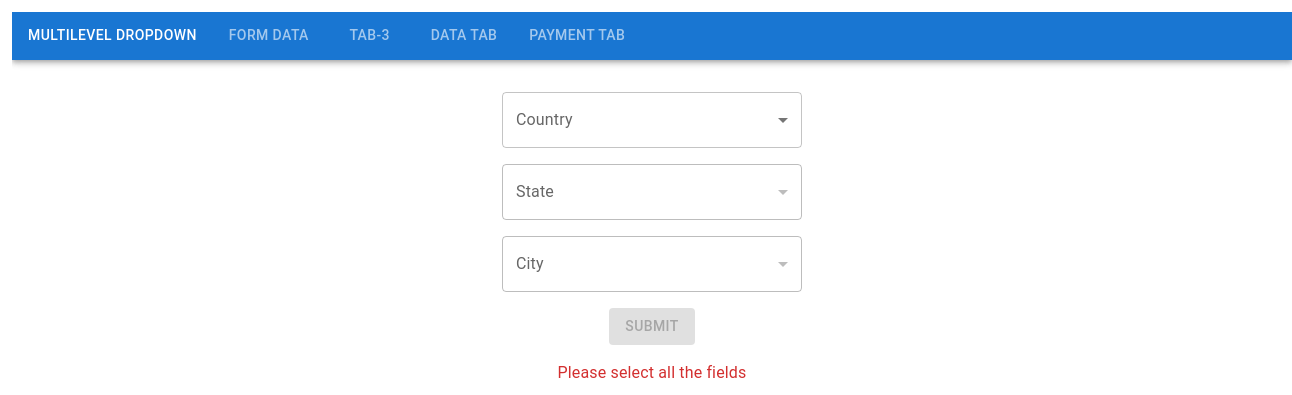
Test: should render Tab3 content when selectedTab is 2
Click on Tab-3 to select it
Step 1. Click the tab "Tab-3" → point(370, 36), box [325,12,415,60]
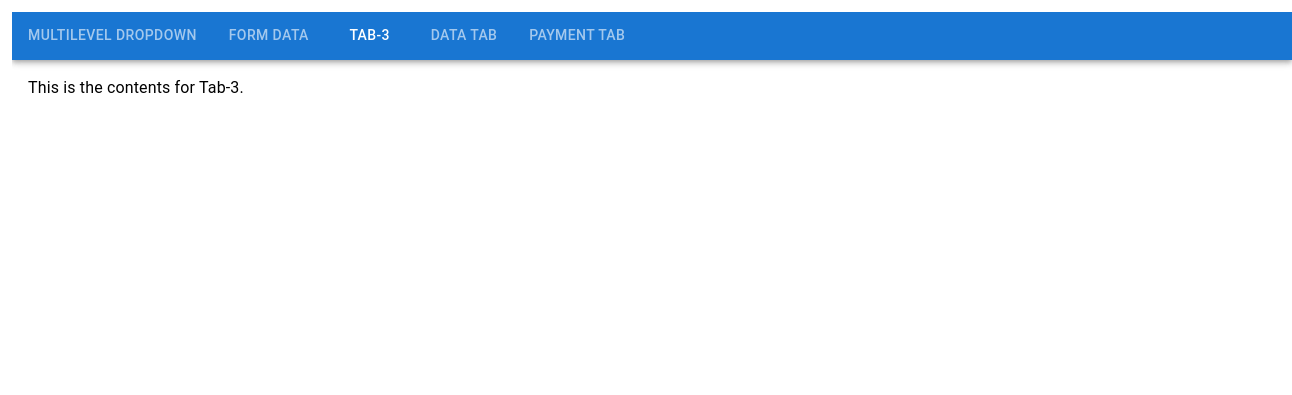
expect the text "This is the contents for Tab-3." is shown: met, box [28,78,244,97]
